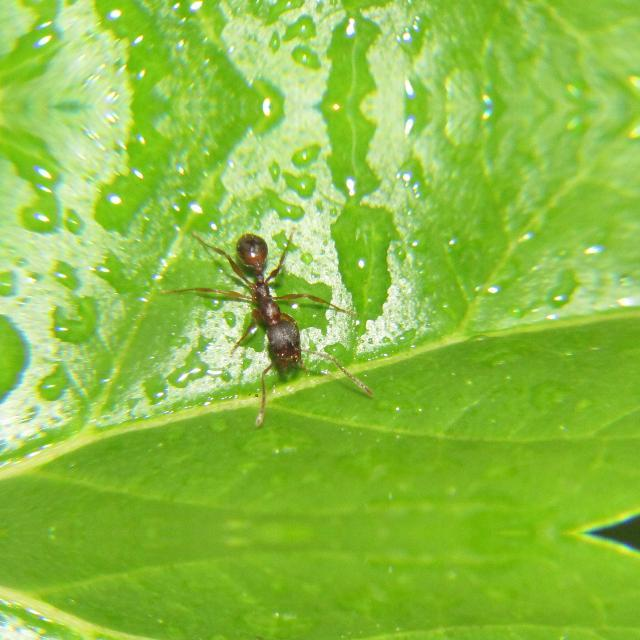Apheanogaster: (190, 214, 370, 400)
